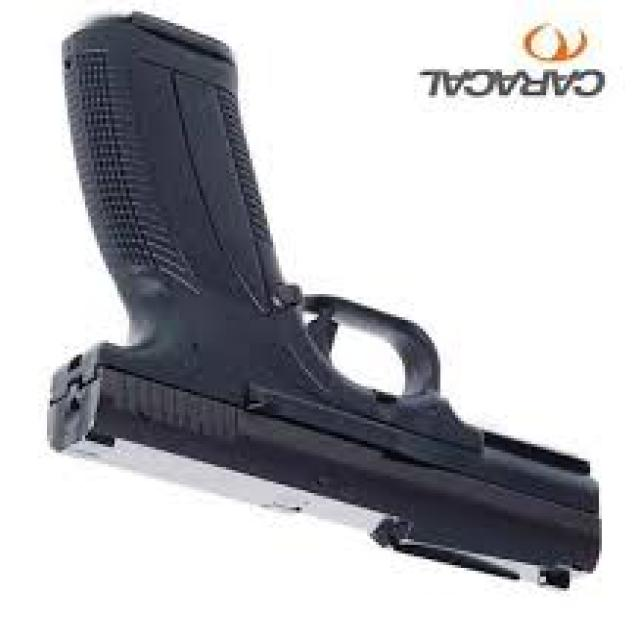Gun: (0, 17, 634, 597)
